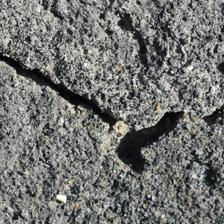Crack: (25, 51, 88, 138), (71, 49, 144, 116)
